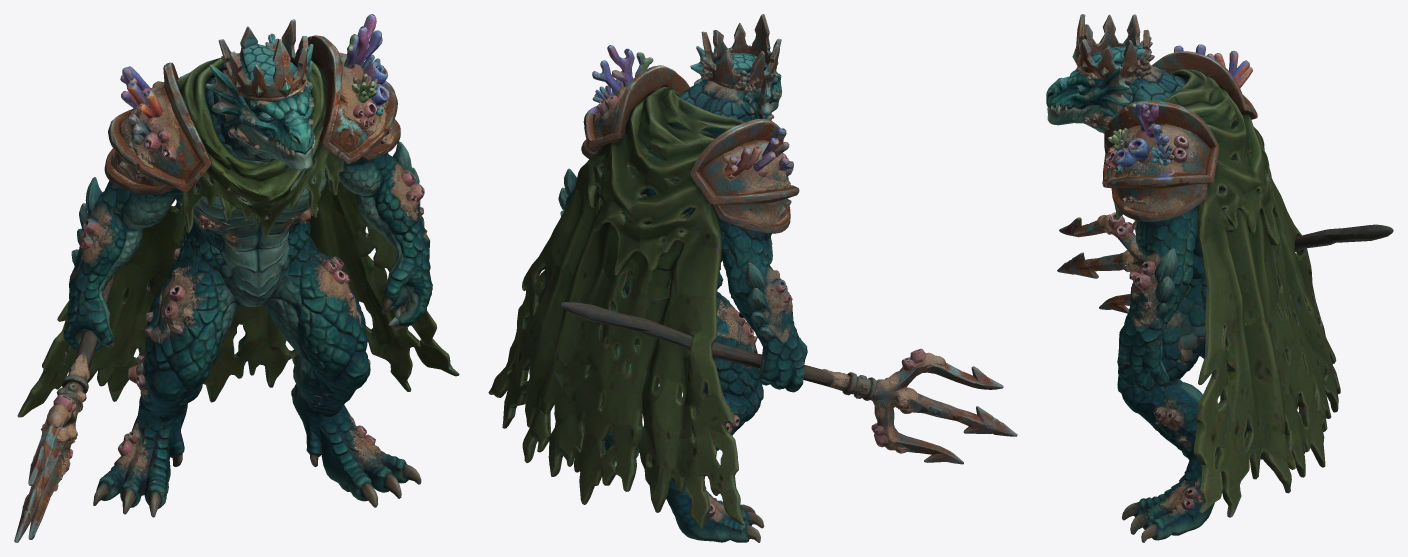
Rendered from sunken_king.glb.
3 renders of one model, left to right at view 1: azimuth 30°, elevation 25°; view 2: azimuth 150°, elevation 25°; view 3: azimuth 270°, elevation 25°, orthographic. The views are drawn at different scales.
Visible parts, largest first — view 1: Mesh_0; view 2: Mesh_0; view 3: Mesh_0.
Boxes of the visible parts, box(x1,y1,x2,y2) form: Mesh_0: box(14, 14, 459, 542); Mesh_0: box(488, 14, 1017, 542); Mesh_0: box(1046, 14, 1393, 542).
Bounding box in the file's own units: 1.9 × 1.78 × 1.23.
1 material, 1 textured.
